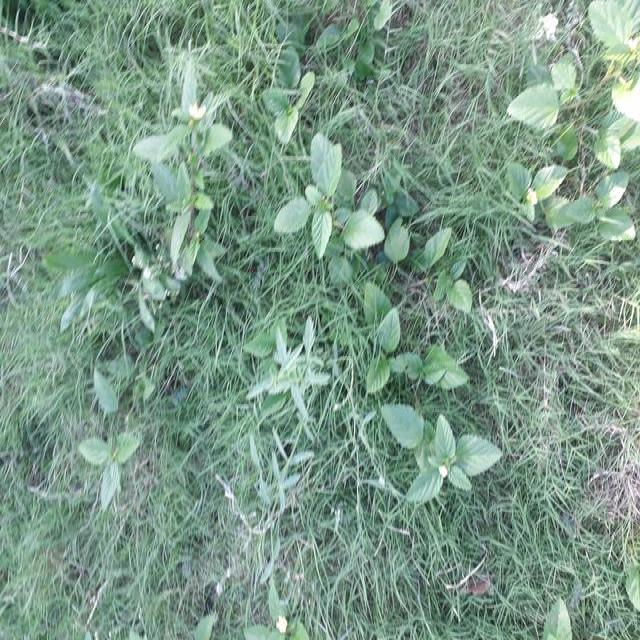weed: (528, 15, 640, 236), (141, 83, 236, 308), (284, 139, 391, 266), (345, 294, 459, 408), (374, 408, 499, 496), (73, 379, 145, 508), (251, 334, 328, 429)
